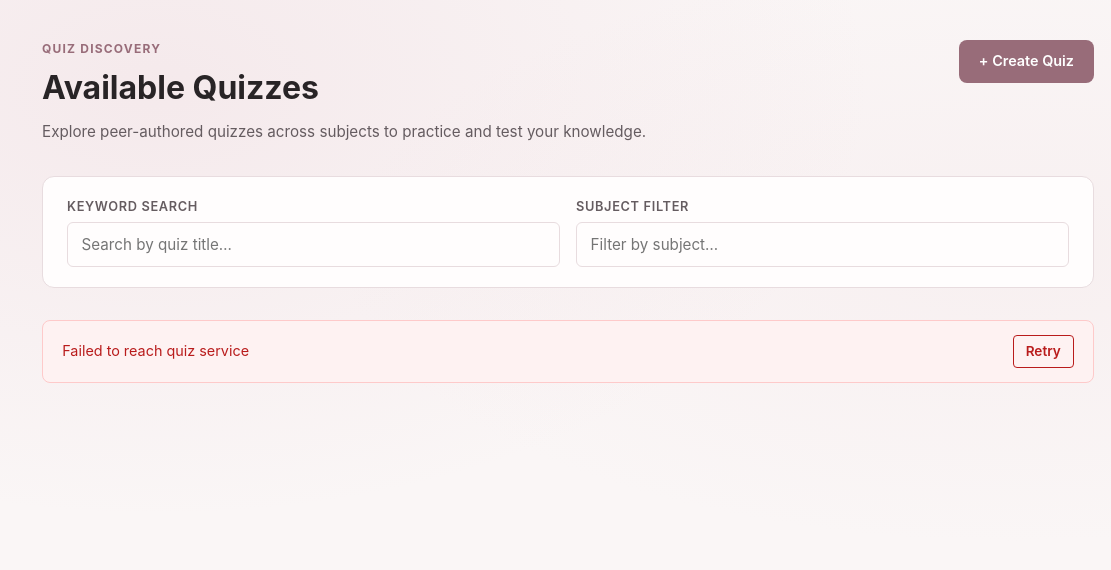
Scenario: QuizListPage (CSMQ-51) › shows error banner and retries successfully
Expected: the message shows "Failed to reach quiz service", x1=62 y1=342 x2=249 y2=359
Click the button "Retry": click(1043, 352) x1=1013 y1=335 x2=1074 y2=368
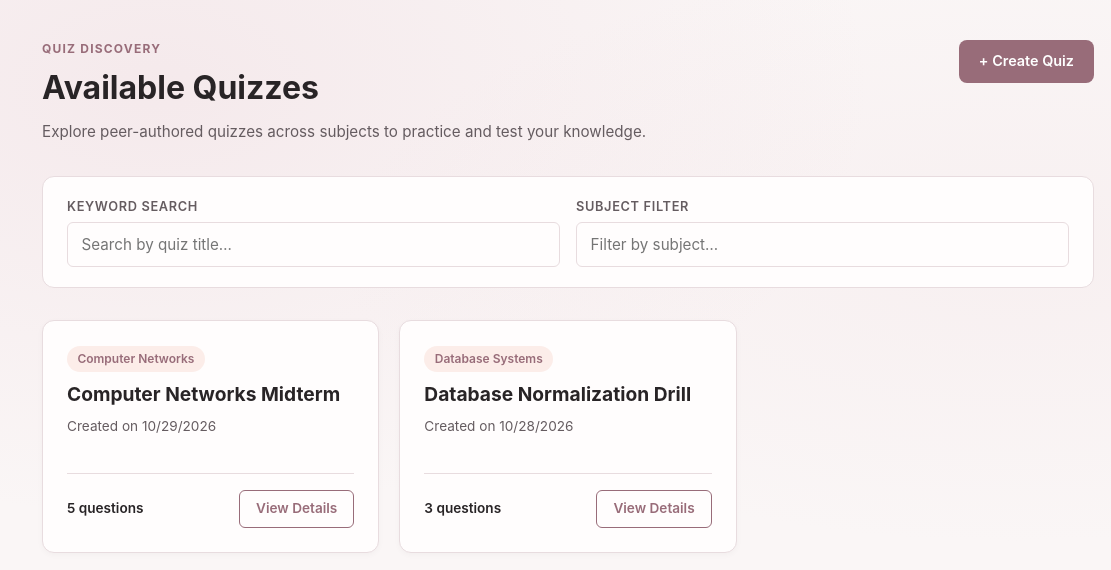
Expected: the heading "Computer Networks Midterm" is shown, x1=67 y1=382 x2=354 y2=408
